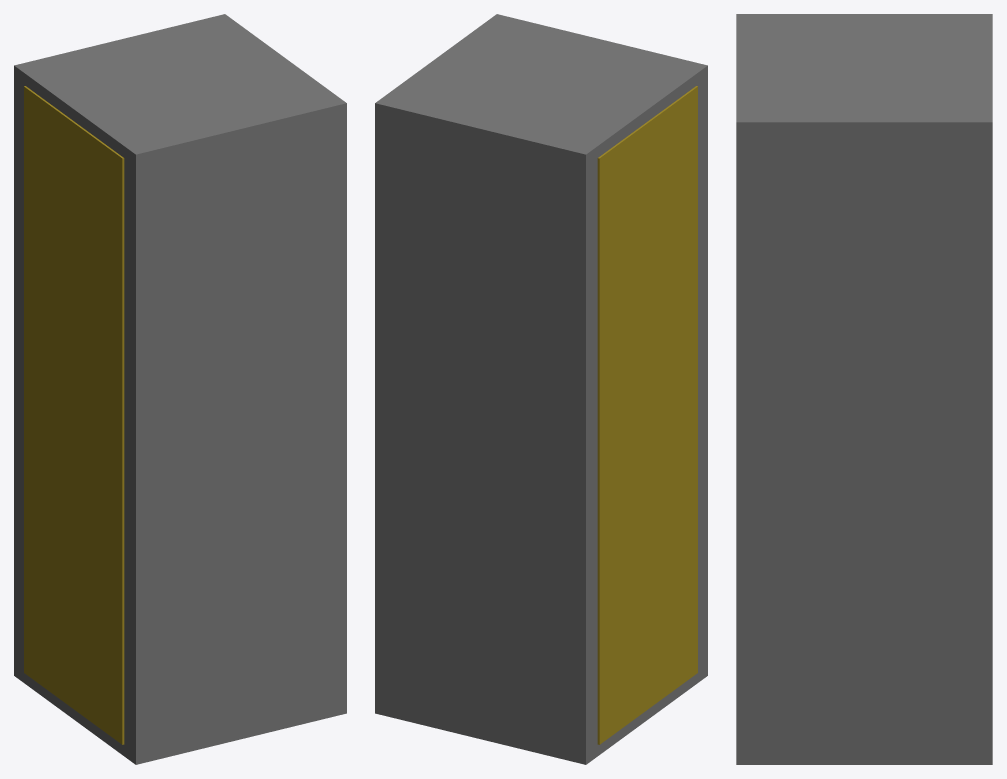
Rendered from taquilla 1.fbx.
3 renders of one model, left to right at view 1: azimuth 30°, elevation 25°; view 2: azimuth 150°, elevation 25°; view 3: azimuth 270°, elevation 25°, orthographic. The views are drawn at different scales.
Parts seen in each view (by area): view 1: Taquilla, Puerta taquilla; view 2: Taquilla, Puerta taquilla; view 3: Taquilla.
Part boxes in pixels (x1,y1,x2,y2): Taquilla: [14, 14, 346, 764]; Puerta taquilla: [24, 86, 124, 744]; Taquilla: [375, 14, 707, 764]; Puerta taquilla: [597, 86, 697, 744]; Taquilla: [736, 14, 992, 764].
Bounding box in the file's own units: 97.21 × 266 × 96.39.
